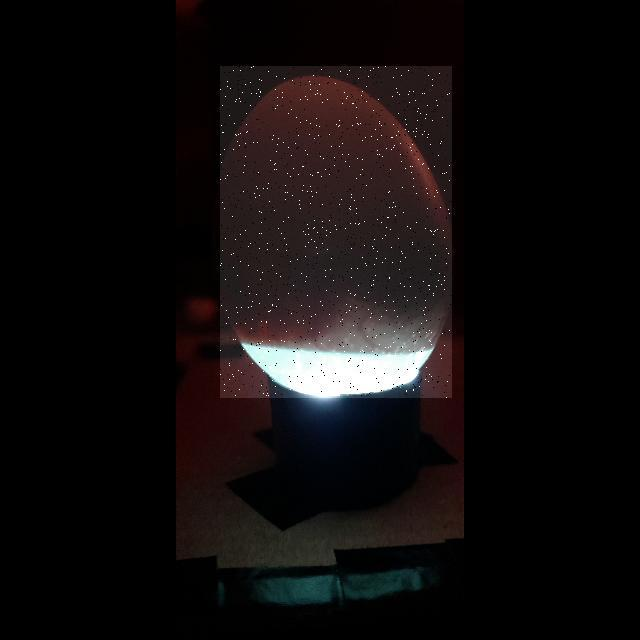Fertile: (220, 66, 452, 398)
